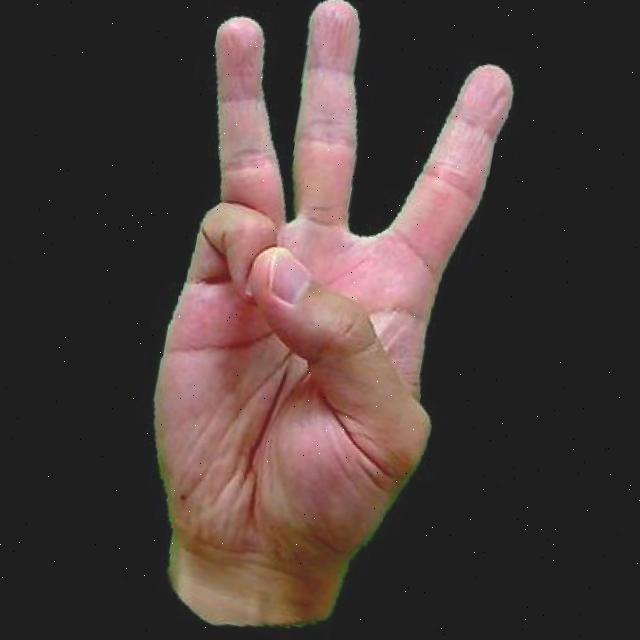w: (98, 0, 538, 640)
